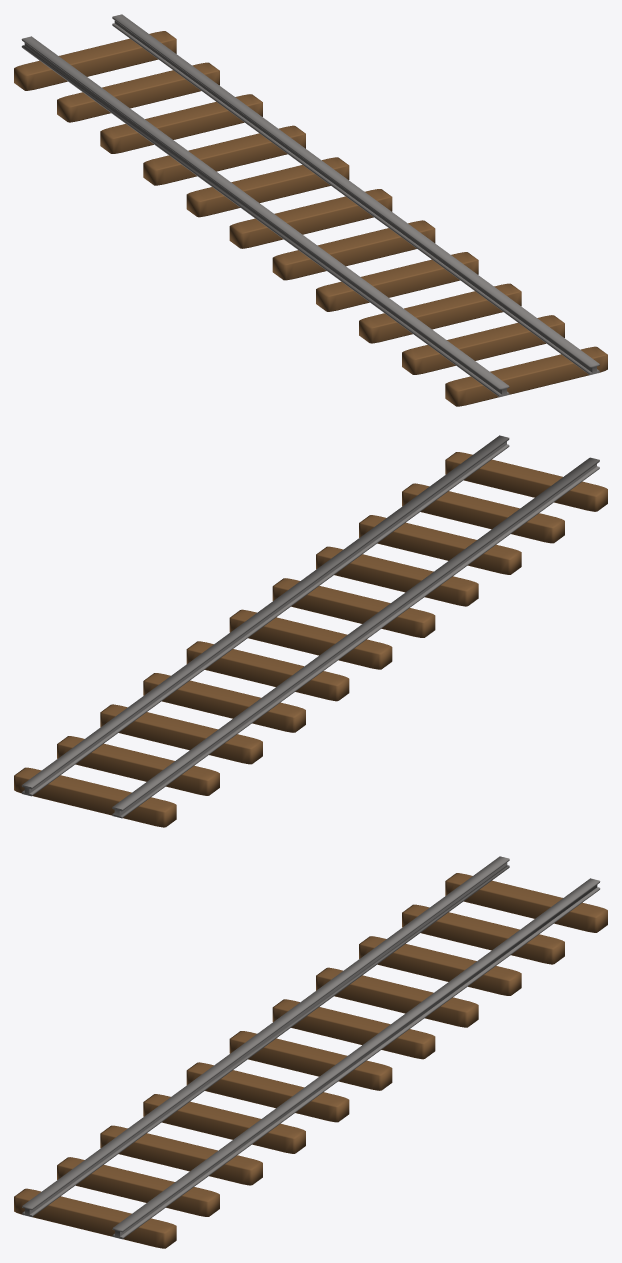
File: straight.FBX
3 renders of one model, top to bottom at view 1: azimuth 30°, elevation 25°; view 2: azimuth 150°, elevation 25°; view 3: azimuth 330°, elevation 25°, orthographic.
Parts seen in each view (by area): view 1: railroadsection.layer01; view 2: railroadsection.layer01; view 3: railroadsection.layer01.
Boxes of the visible parts, x1,y1,x2,y2 form: railroadsection.layer01: (14, 14, 607, 406); railroadsection.layer01: (14, 435, 607, 827); railroadsection.layer01: (14, 856, 607, 1248).
Bounding box in the file's own units: 2.17 × 0.3522 × 11.81.
